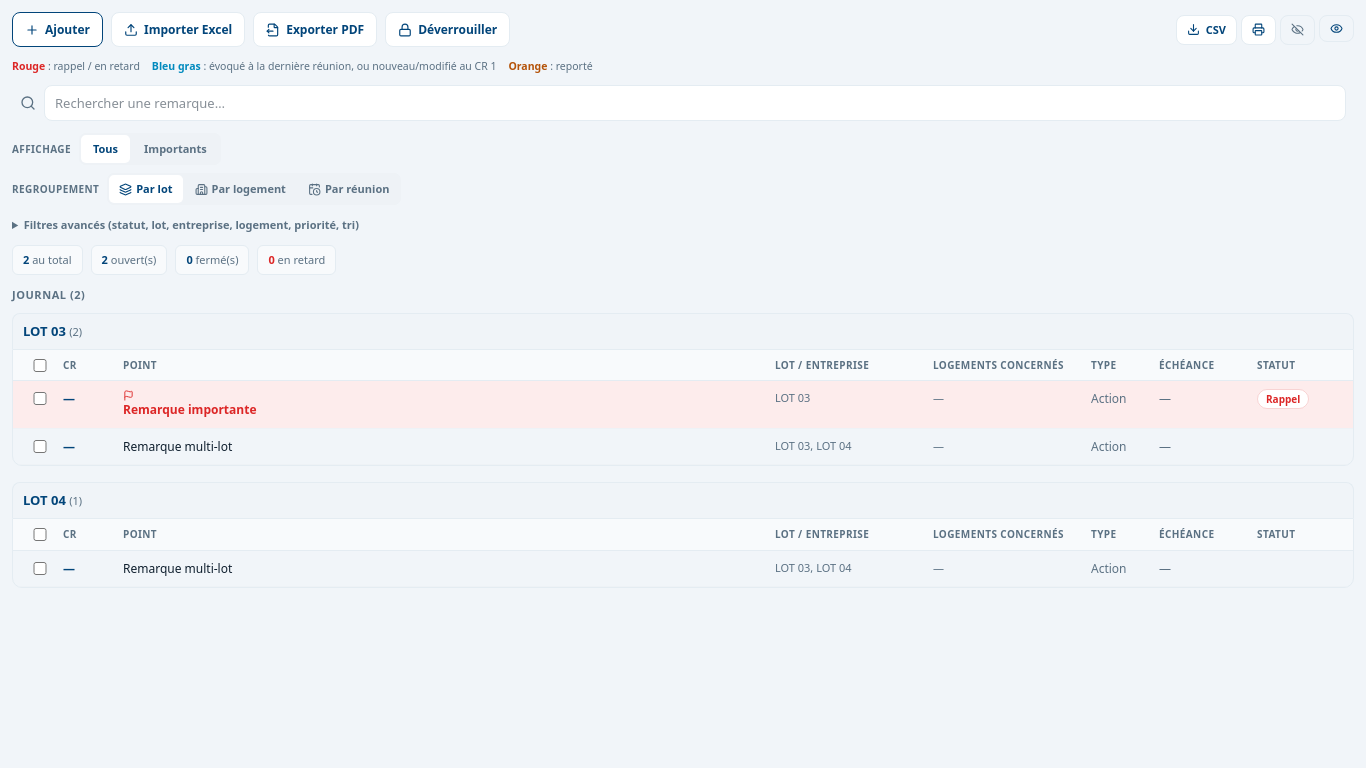
Test: sprint — création d'une remarque multi-entreprises › le formulaire Ajouter propose un sélecteur multi-entreprises avec case « Toutes »
Click the button "Ajouter".
click(58, 30)  # box left=12, top=12, right=103, bottom=47
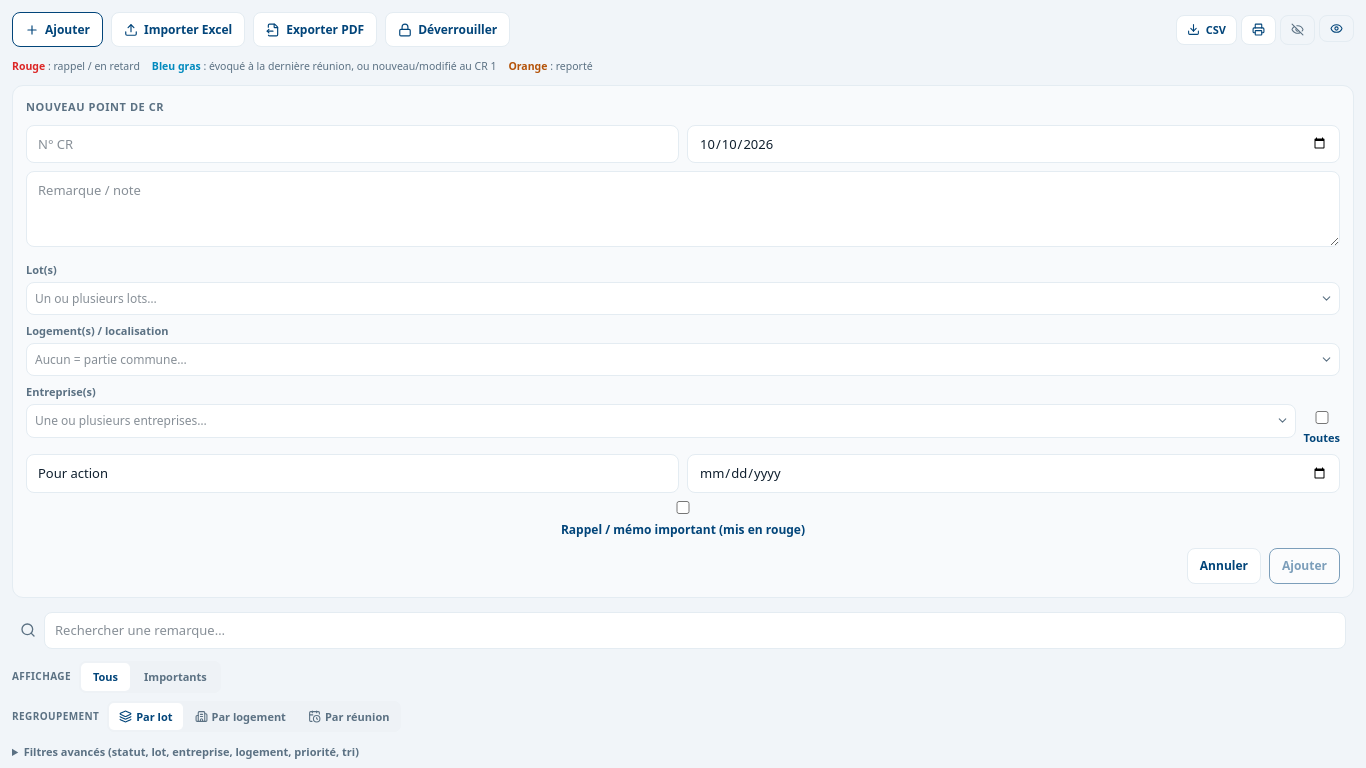
Now the text "Toutes" is shown, box left=1304, top=404, right=1340, bottom=446
